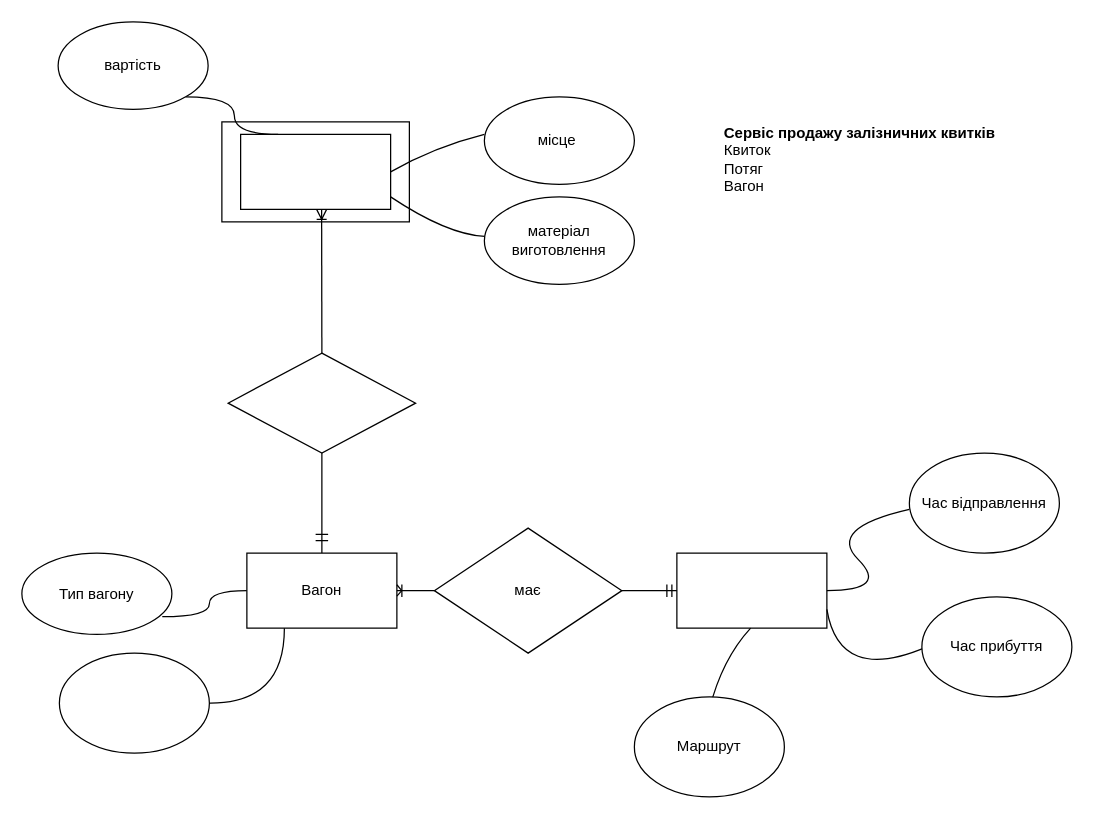
This 1094x819 diagram has some shape labels left out. The shapes that lost their labels are listed below. From the top down, each one's box as (x1, y1, x2, y2) in pixels, then its label:
(239, 133, 391, 209): Квиток
(227, 352, 416, 453): вказує на
(676, 552, 827, 628): Потяг
(58, 652, 209, 753): Рік початку експлуатації
